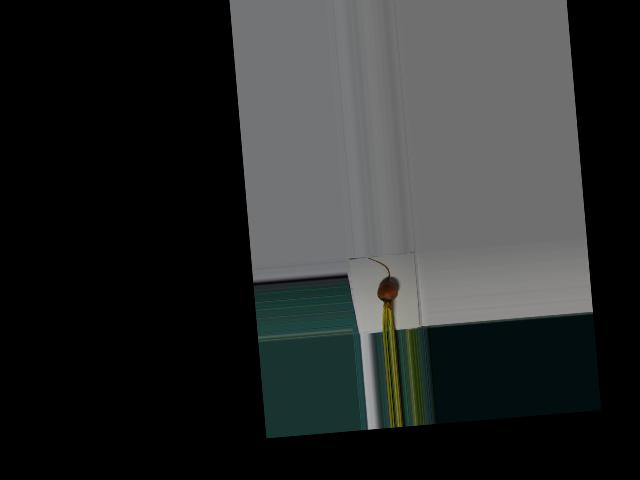beet: (368, 255, 401, 332)
